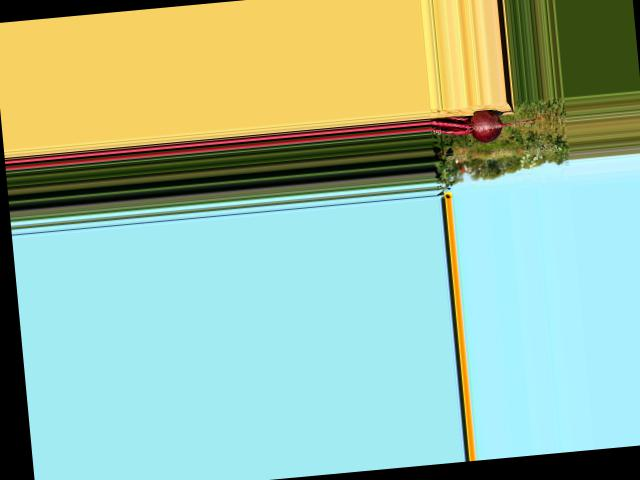beet: (428, 102, 563, 147)
